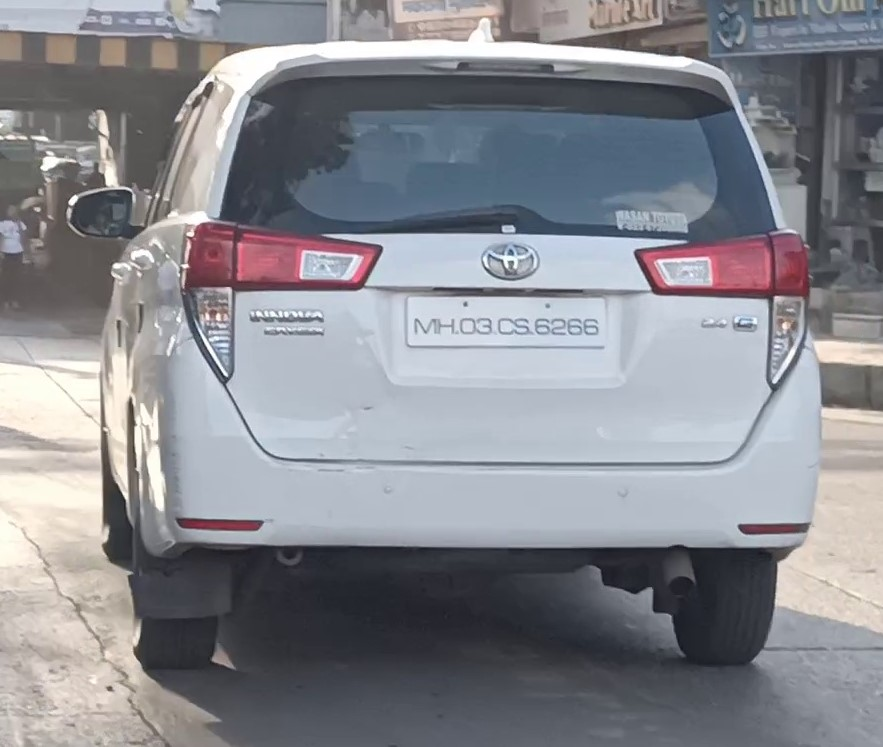MH03CS6266: (403, 291, 612, 349)
